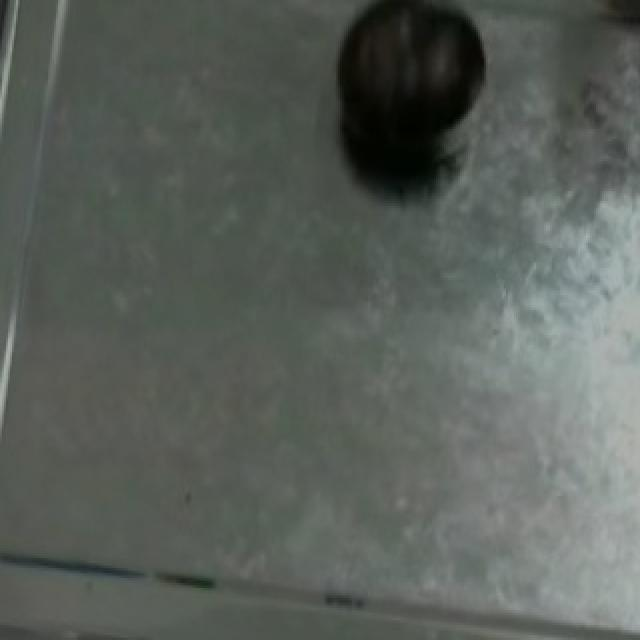Fruit: (322, 0, 500, 171)
